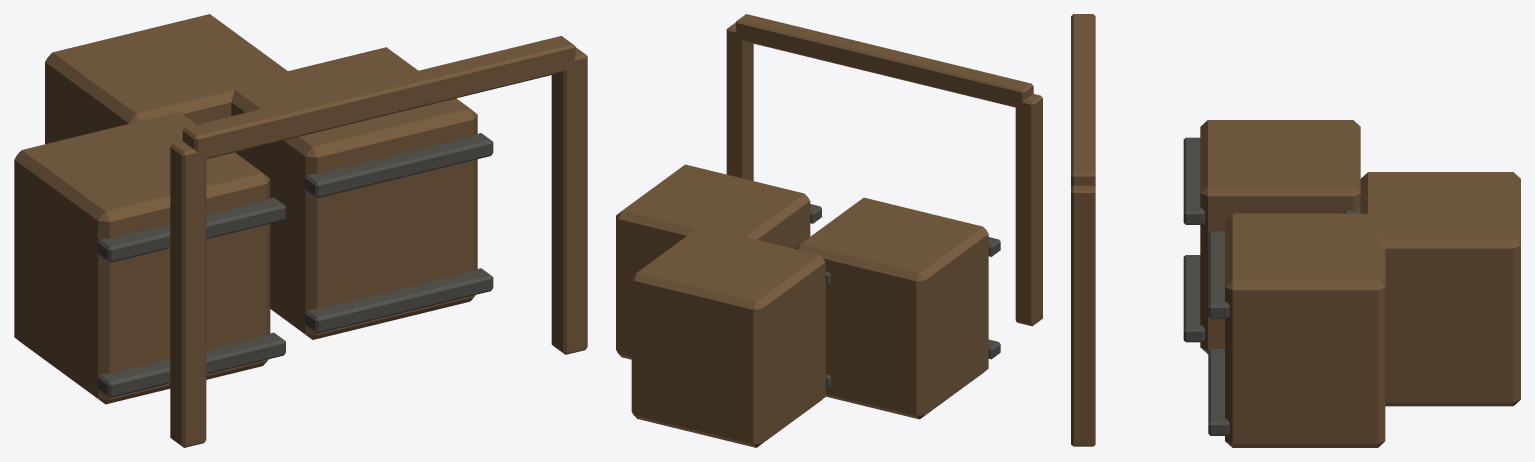
File: SM_Villa_Almacen.fbx
3 renders of one model, left to right at view 1: azimuth 30°, elevation 25°; view 2: azimuth 150°, elevation 25°; view 3: azimuth 270°, elevation 25°, orthographic. The views are drawn at different scales.
Visible parts, largest first — view 1: SM_Villa_Almacen; view 2: SM_Villa_Almacen; view 3: SM_Villa_Almacen.
Boxes of the visible parts, <box> form: SM_Villa_Almacen: <box>14,14,587,447</box>; SM_Villa_Almacen: <box>616,14,1042,447</box>; SM_Villa_Almacen: <box>1071,14,1520,447</box>.
Size of the model in its own units: 67.5 by 50 by 73.
